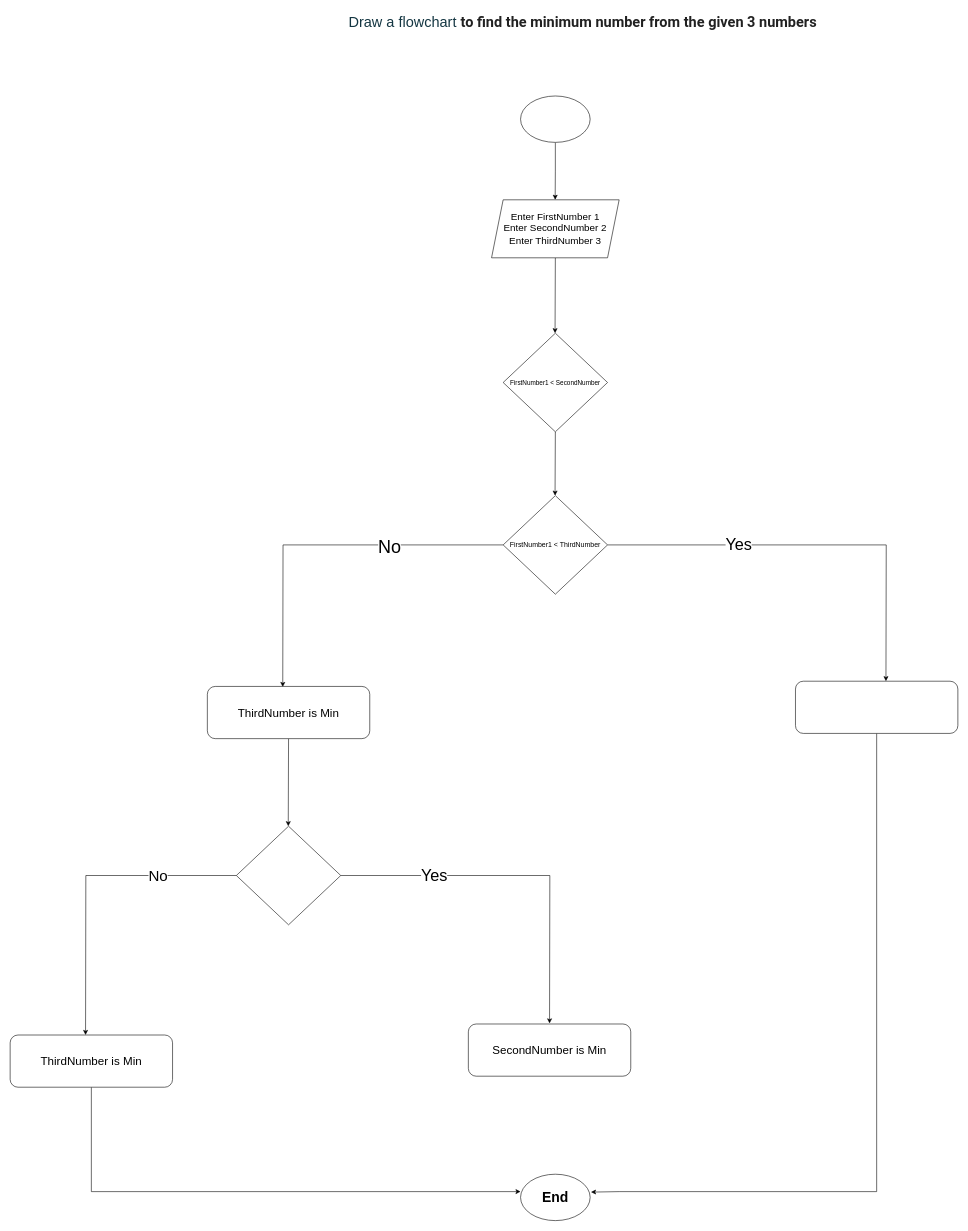
This 968x1231 diagram has some shape labels left out. Each missing label, with the box of its shape:
FirstNumber is Min: (795, 681, 958, 733)
SecondNumber1 < ThirdNumber: (236, 826, 341, 925)
Start: (520, 95, 590, 142)
